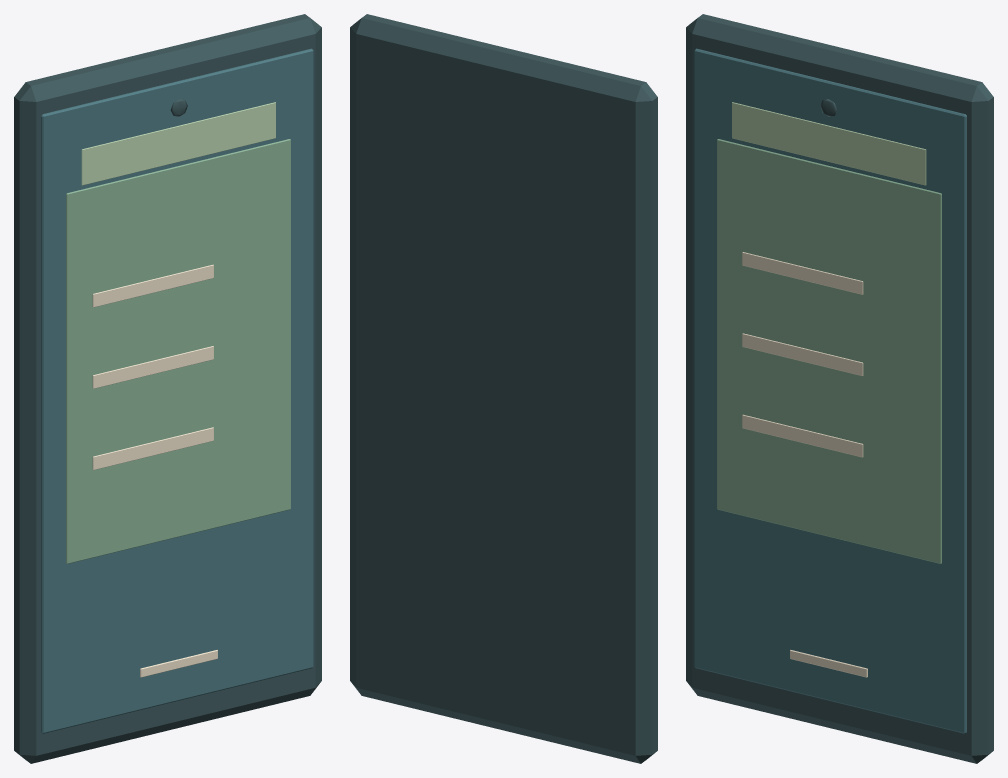
File: telephone.glb
3 renders of one model, left to right at view 1: azimuth 30°, elevation 25°; view 2: azimuth 150°, elevation 25°; view 3: azimuth 330°, elevation 25°, orthographic.
Visible parts, largest first — view 1: telephone; view 2: telephone; view 3: telephone.
Part boxes in pixels (<box>): telephone: <box>14,14,321,763</box>; telephone: <box>350,14,657,763</box>; telephone: <box>686,14,993,763</box>.
Bounding box in the file's own units: 0.07 × 0.15 × 0.008.
